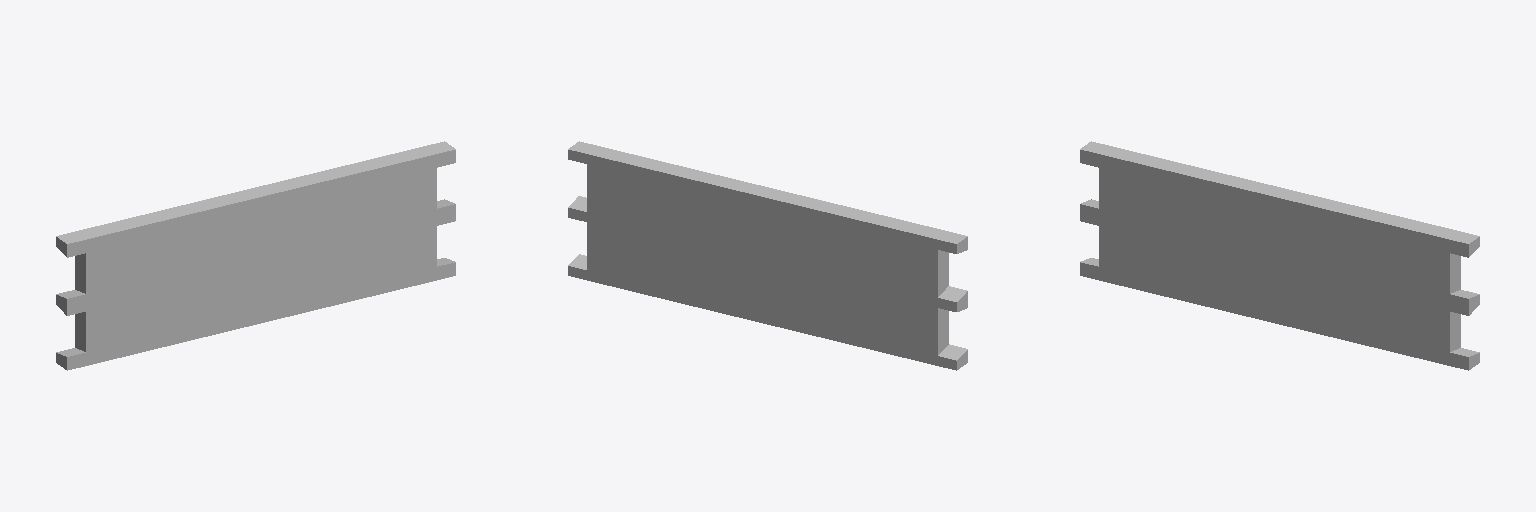
File: original-21.obj
The picture shows the model from 3 angles: view 1: azimuth 30°, elevation 25°; view 2: azimuth 150°, elevation 25°; view 3: azimuth 330°, elevation 25°; orthographic projection.
Visible parts, largest first — view 1: Group21/mesh27/mesh27-geometry#mesh27-geometry; view 2: Group21/mesh27/mesh27-geometry#mesh27-geometry; view 3: Group21/mesh27/mesh27-geometry#mesh27-geometry.
Boxes of the visible parts, box(x1,y1,x2,y2) form: Group21/mesh27/mesh27-geometry#mesh27-geometry: box(56, 141, 455, 370); Group21/mesh27/mesh27-geometry#mesh27-geometry: box(568, 141, 967, 370); Group21/mesh27/mesh27-geometry#mesh27-geometry: box(1080, 141, 1479, 370).
Size of the model in its own units: 0.1982 by 0.0616 by 0.0098.